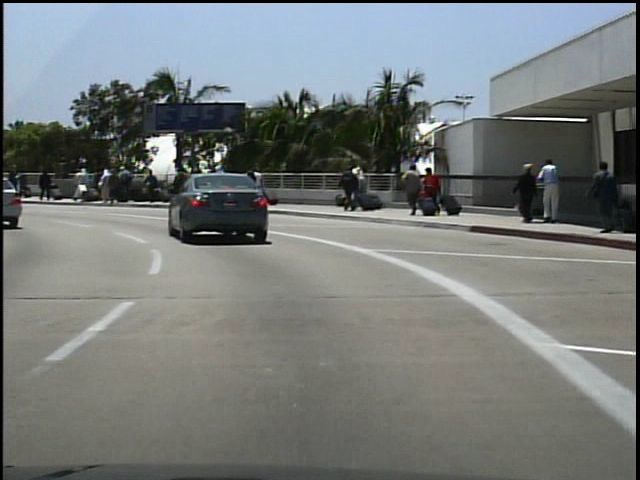person: (586, 158, 621, 239), (537, 156, 566, 229), (515, 159, 540, 226), (401, 162, 425, 218), (339, 162, 359, 214), (423, 163, 443, 212), (248, 160, 269, 199), (38, 166, 56, 202), (18, 167, 35, 205), (11, 163, 25, 202)
